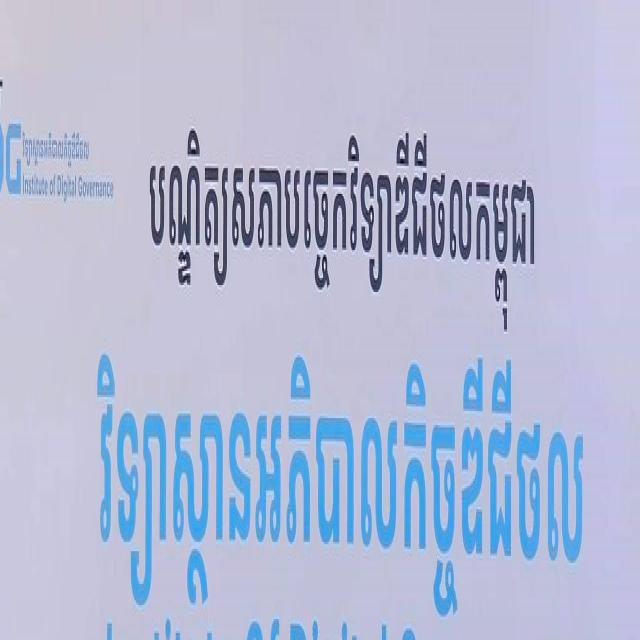Yolov11_80vkh: (96, 318, 588, 628), (145, 124, 537, 339)
